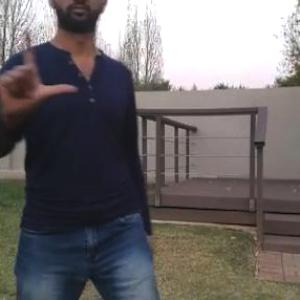land_hand: (0, 20, 89, 123)
